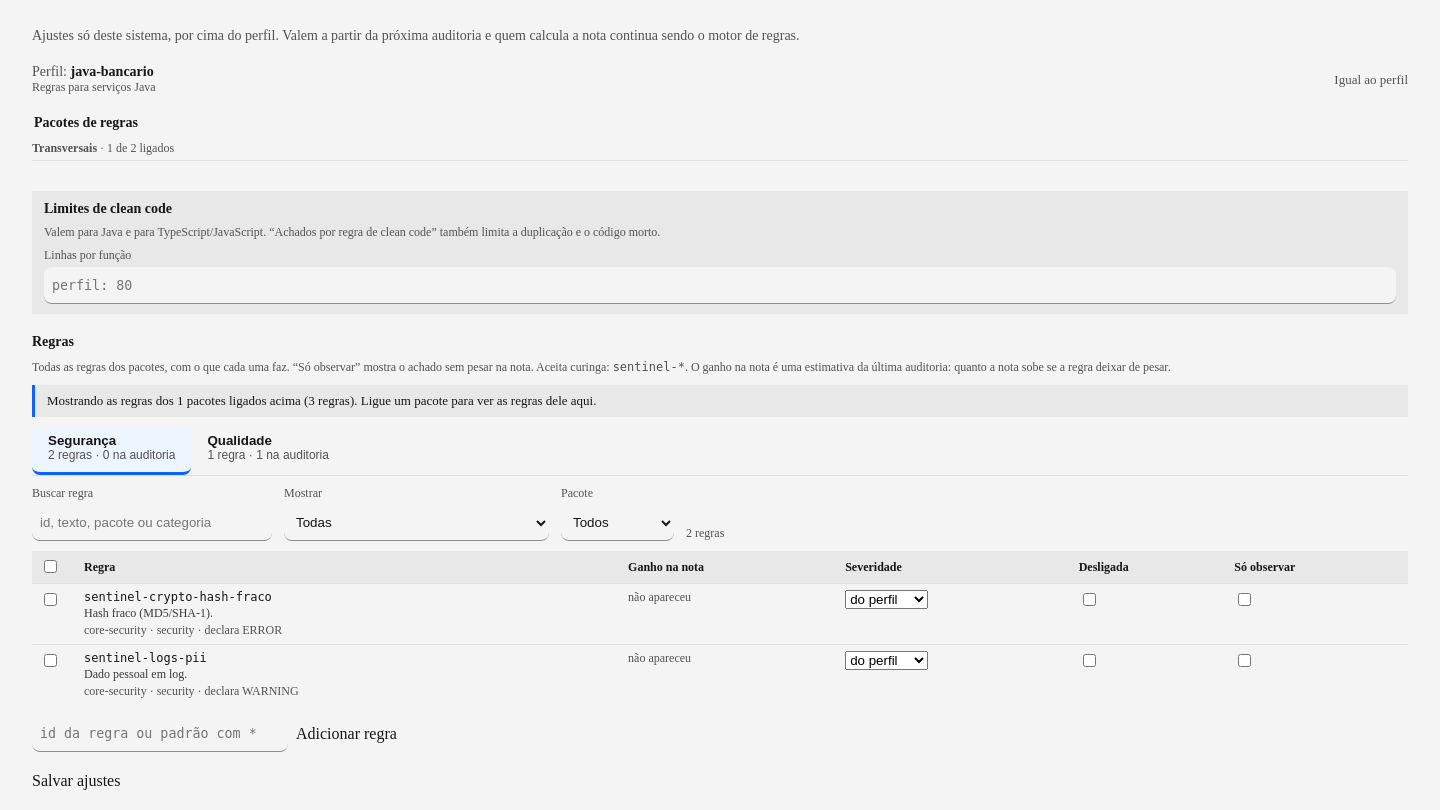
Test: EnginePanel › a busca filtra por texto da regra e o filtro de pacote separa os pacotes
The image size is (1440, 810).
Expected: the text "Hash fraco (MD5/SHA-1)." is shown, [84,606,213,620]
Type "pessoal" into the search field labelled "Buscar regra" at (152, 523), box [32,505,272,541]
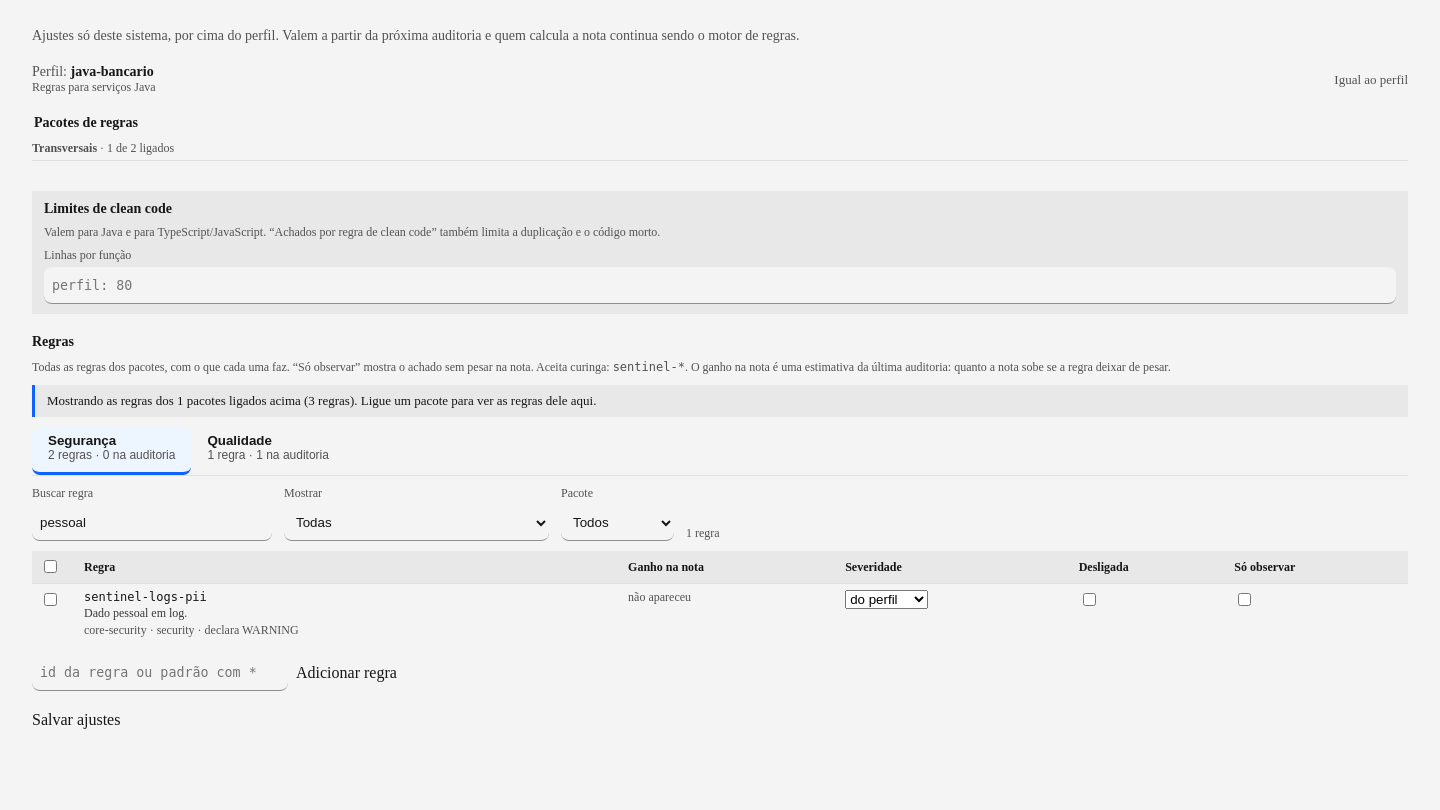
Expected: the text "Dado pessoal em log." is shown, [84,606,187,620]
Expected: the text "Hash fraco (MD5/SHA-1)." is gone
Clear the search field labelled "Buscar regra" at (152, 523), box [32,505,272,541]
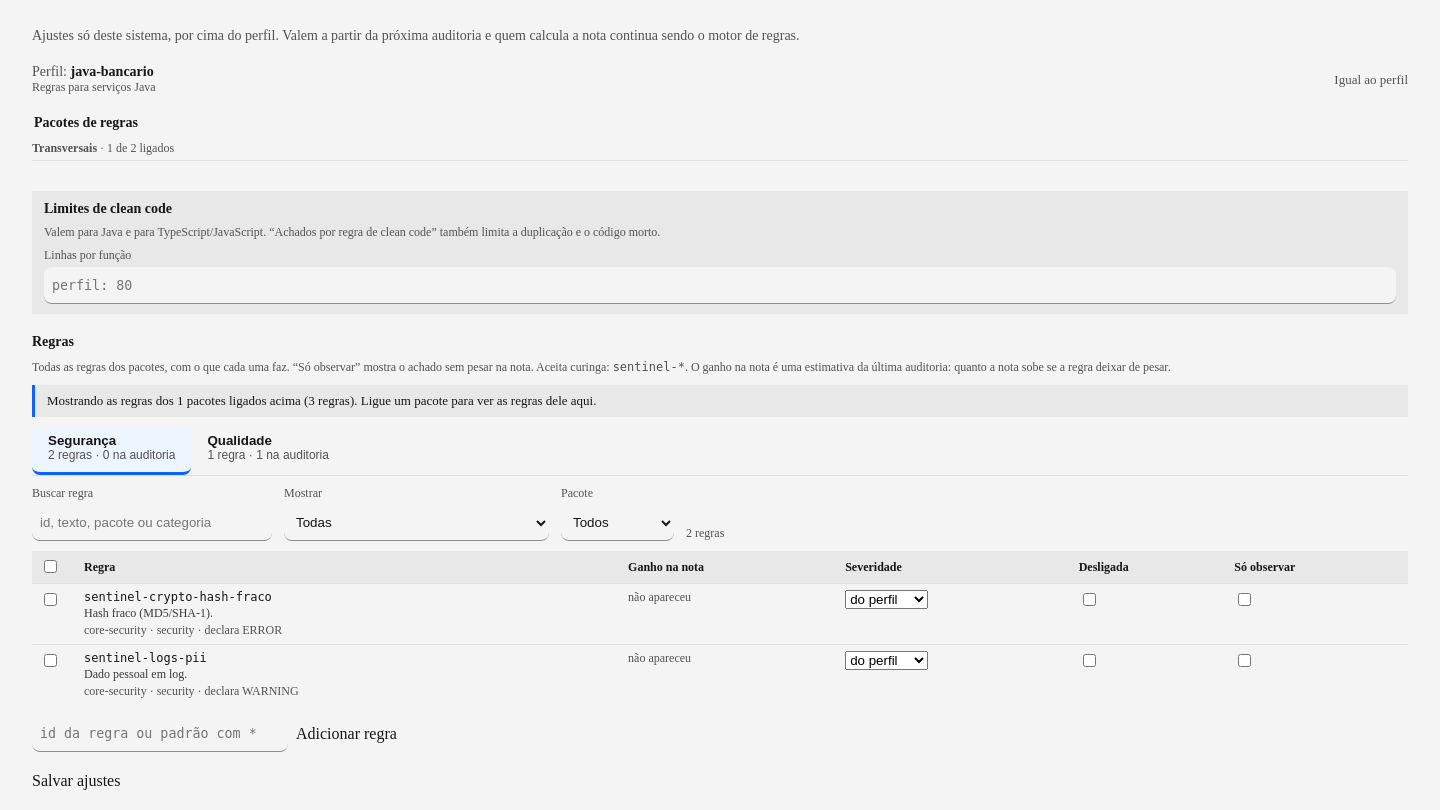
Select "core-quality" in the dropdown named "Filtrar por pacote" at (618, 523), box [561,505,674,541]
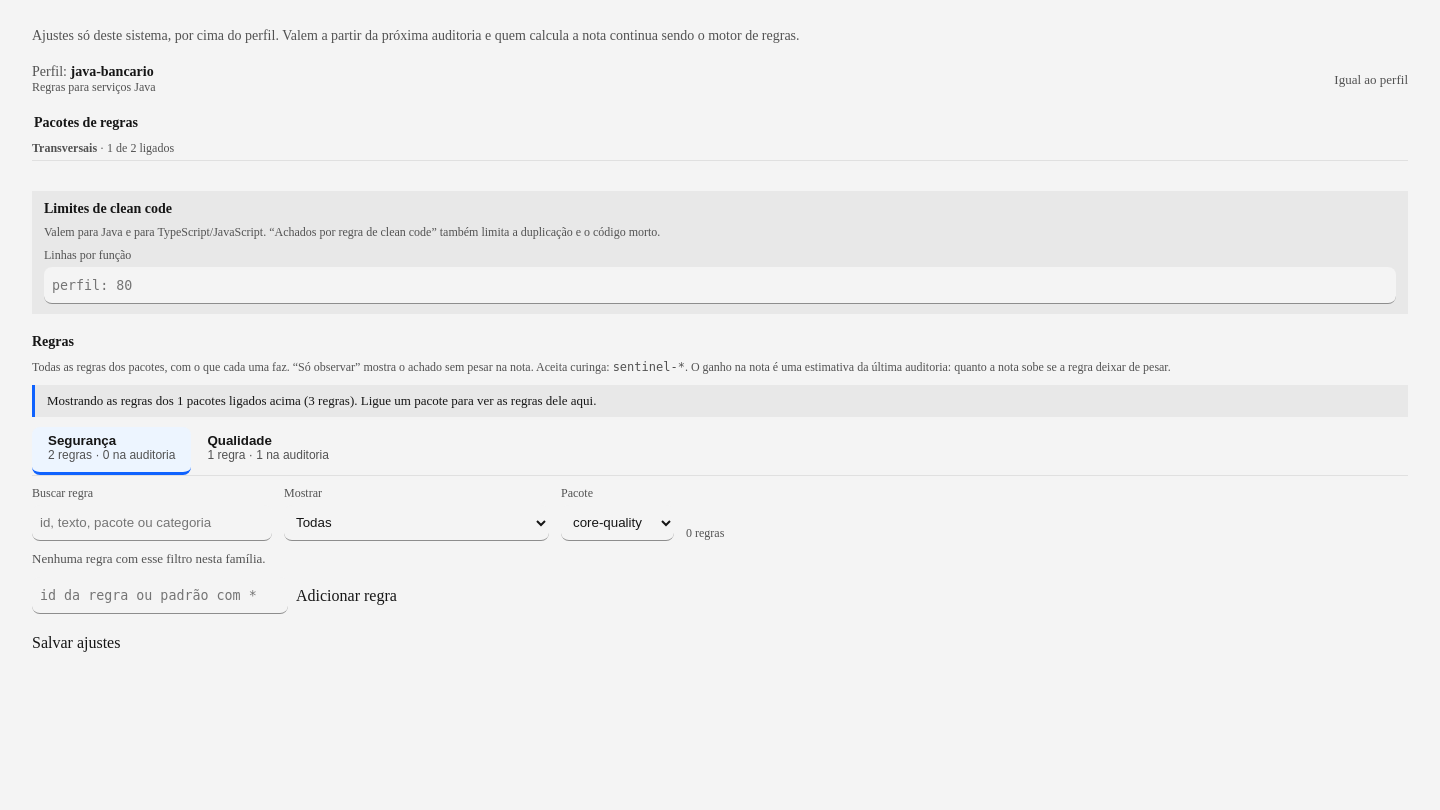
Expected: the text "Dado pessoal em log." is gone
Click the tab "Qualidade 1 regra · 1 na auditoria" at (268, 451), box [192,427,345,475]
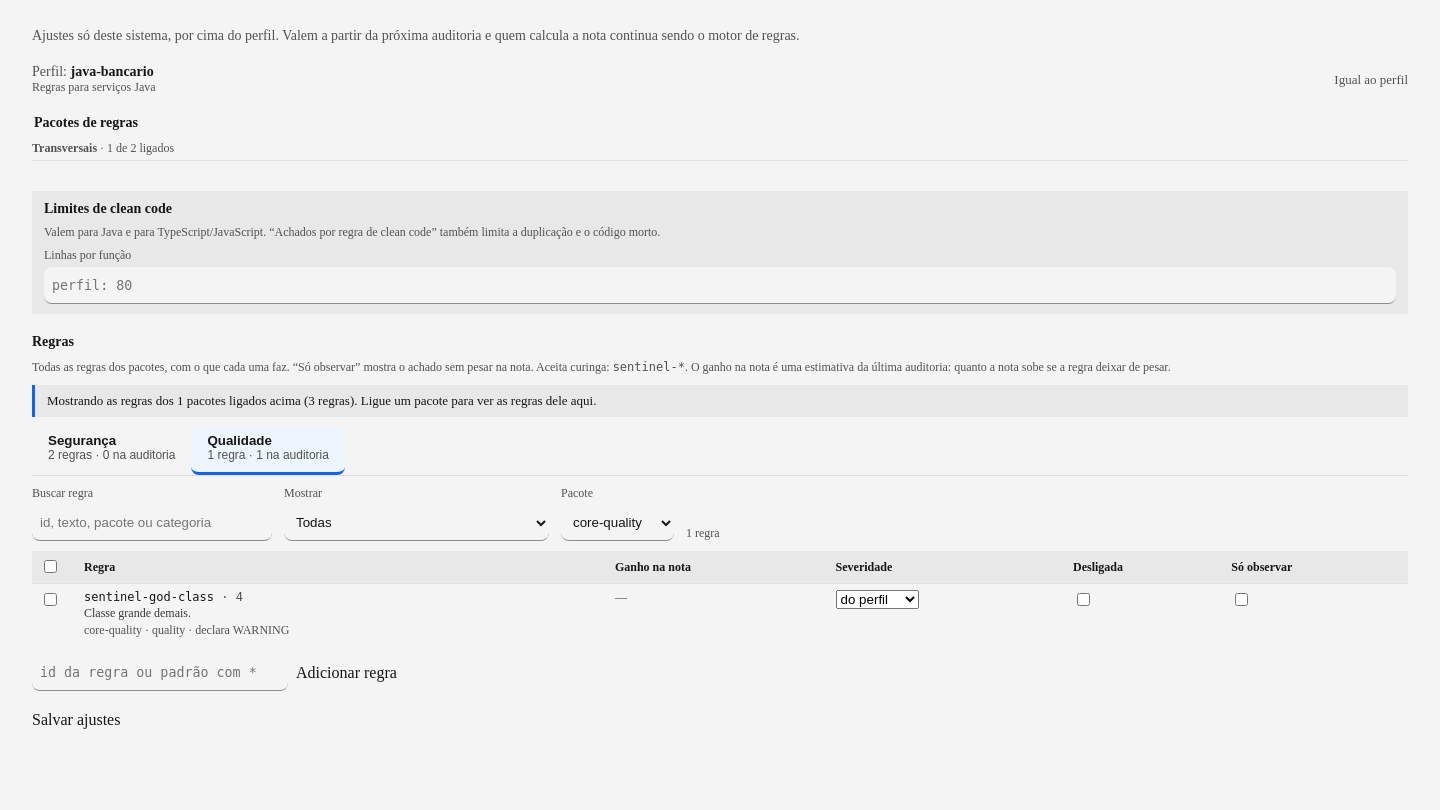
Expected: the text "Classe grande demais." is shown, [84,606,191,620]
